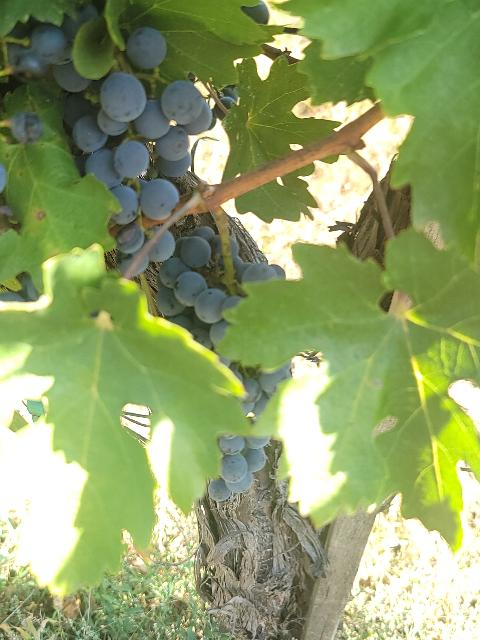grapes: (65, 71, 211, 258), (156, 226, 243, 350)
